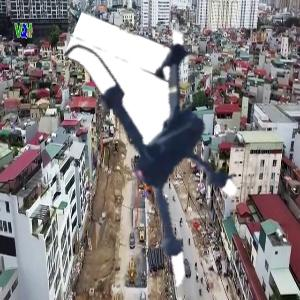drone: (34, 32, 284, 282)
